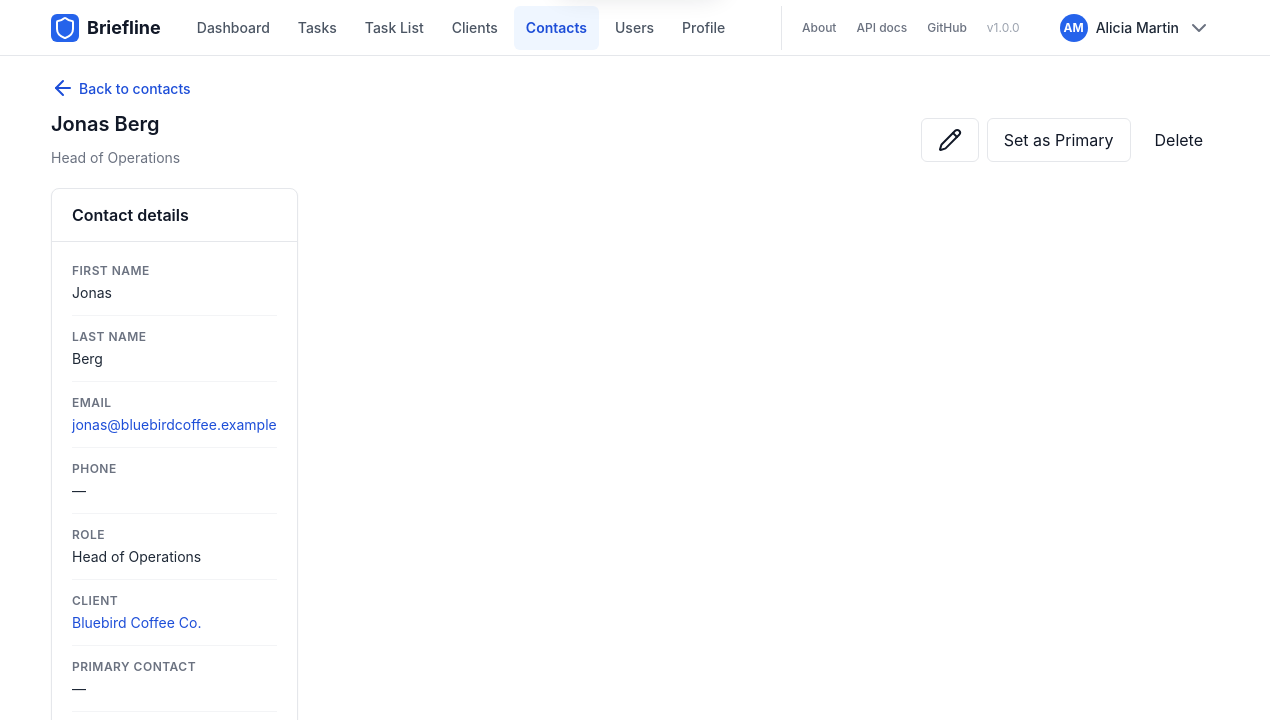
Scenario: Contact detail › lets an admin set a non-primary contact as primary
Expected: the heading "Jonas Berg" is shown, [51,112,160,136]
Expected: the button named "Edit contact" is shown, [921,118,979,162]
Click the button "Set as Primary".
click(1059, 140)  # box [987,118,1130,162]
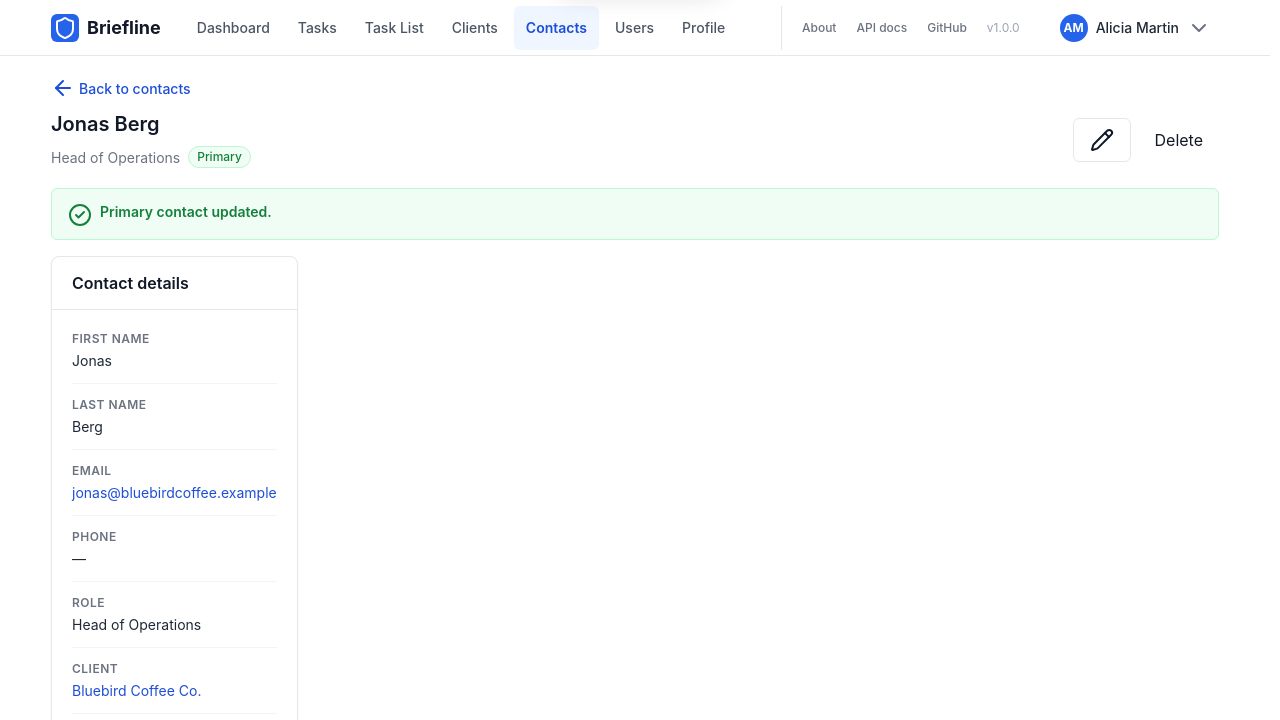
Result: the text "Primary contact updated." is shown at [100,201,272,222]
Result: the text "Primary" is shown 2 times
Result: the button "Set as Primary" is gone
